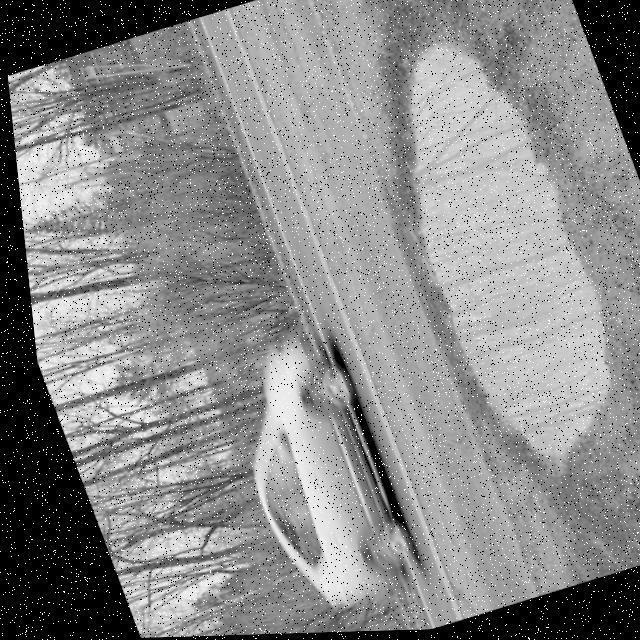pothole: (326, 12, 640, 510)
